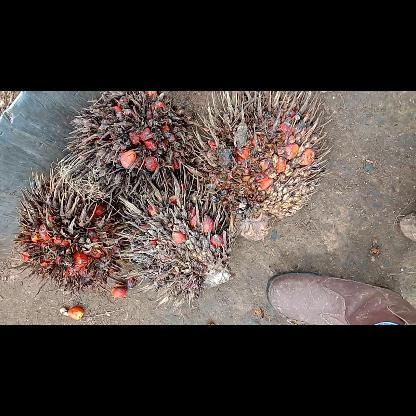Terlalu masak: (180, 92, 338, 242), (110, 170, 242, 312), (9, 158, 133, 298), (62, 90, 210, 198)
